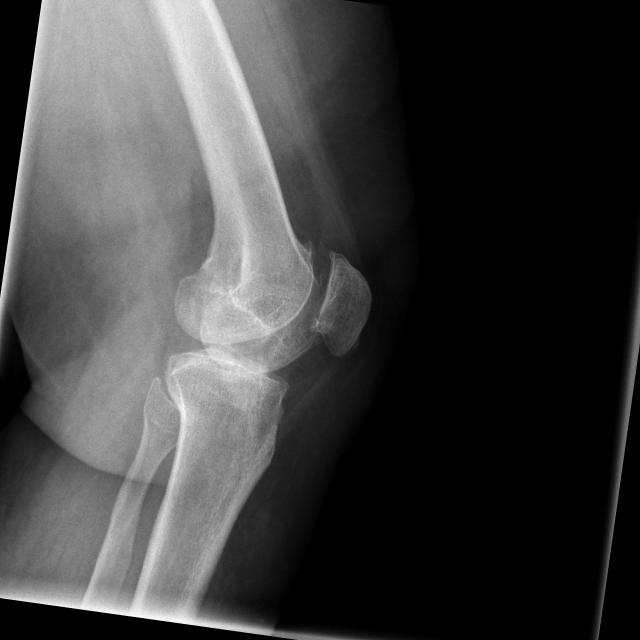Knee: (149, 223, 382, 443)
